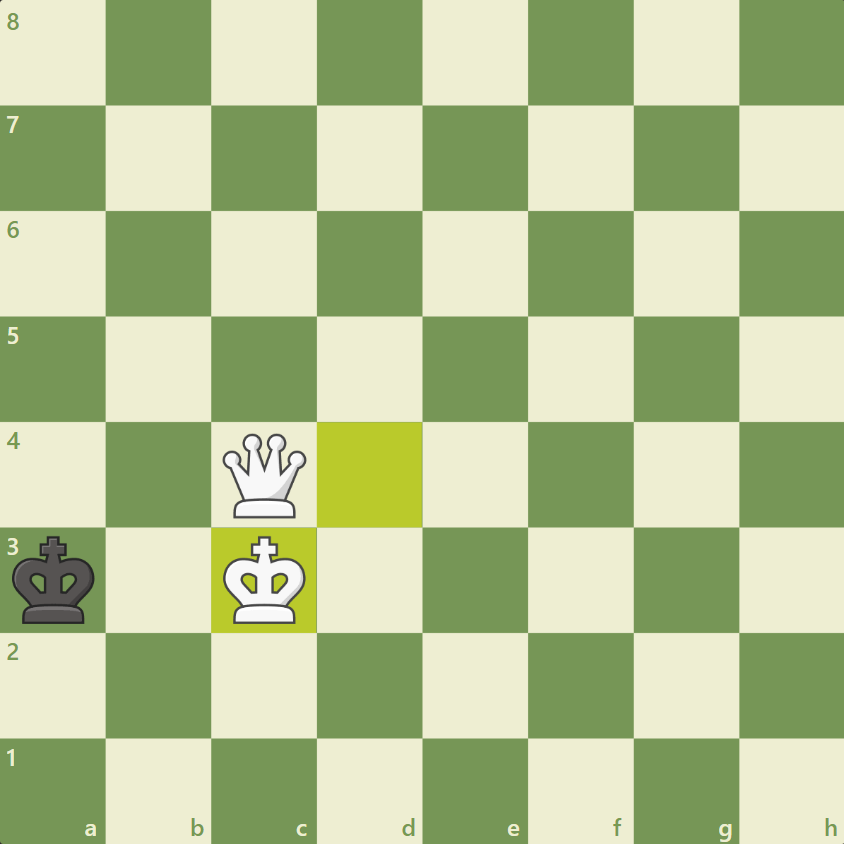K: (218, 534, 309, 628), (10, 533, 97, 628)
Q: (220, 430, 310, 521)
